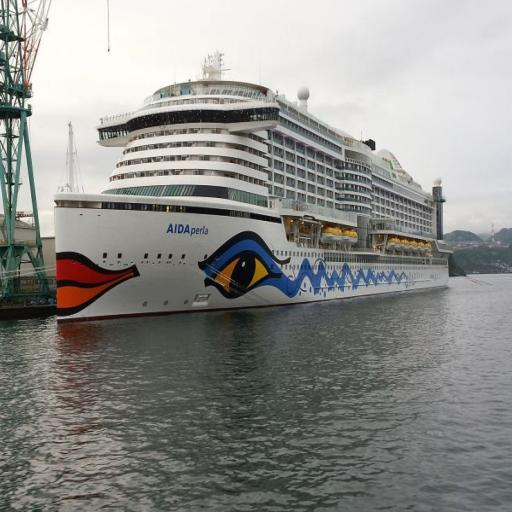cruises: (53, 51, 455, 327)
